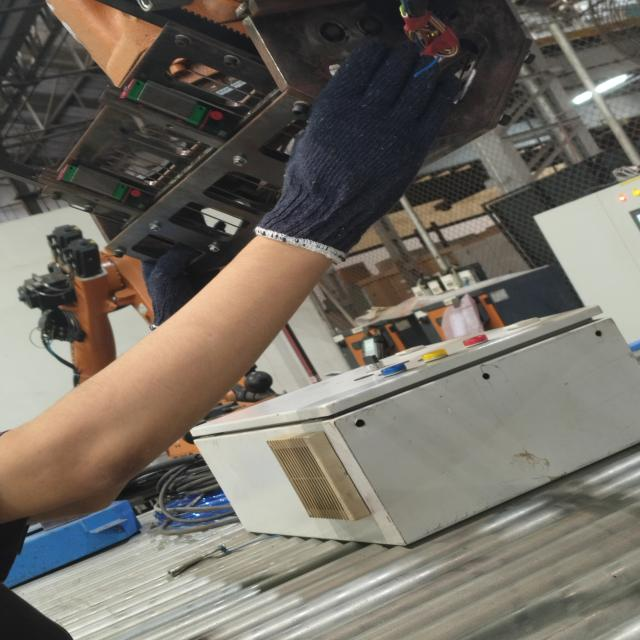Gloves-Detection: (228, 29, 445, 254)
